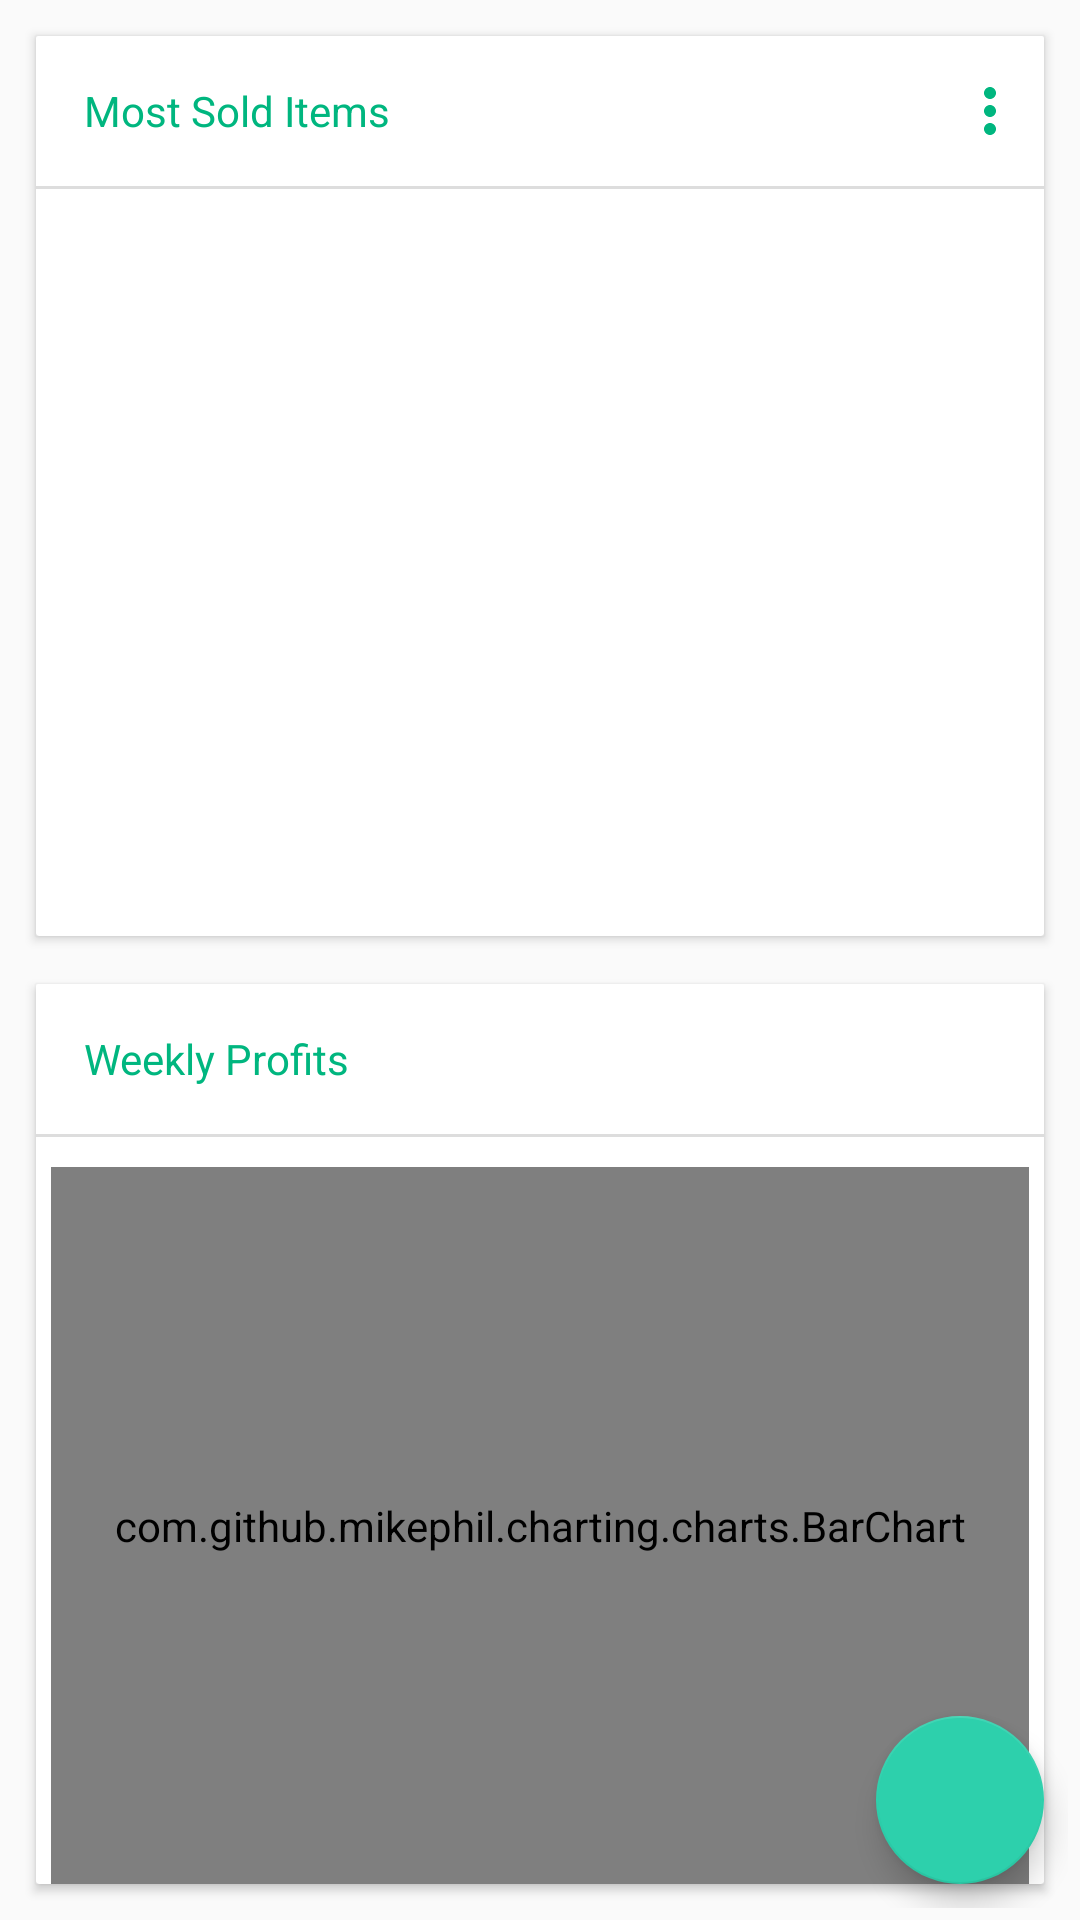

Where to tap for icons on this 1080px x 1920px app screen, as point (x, y):
Menu: point (990, 111)
